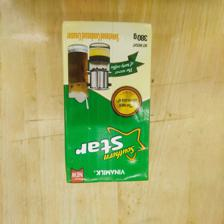NSPN_Hop: (61, 16, 153, 184)
